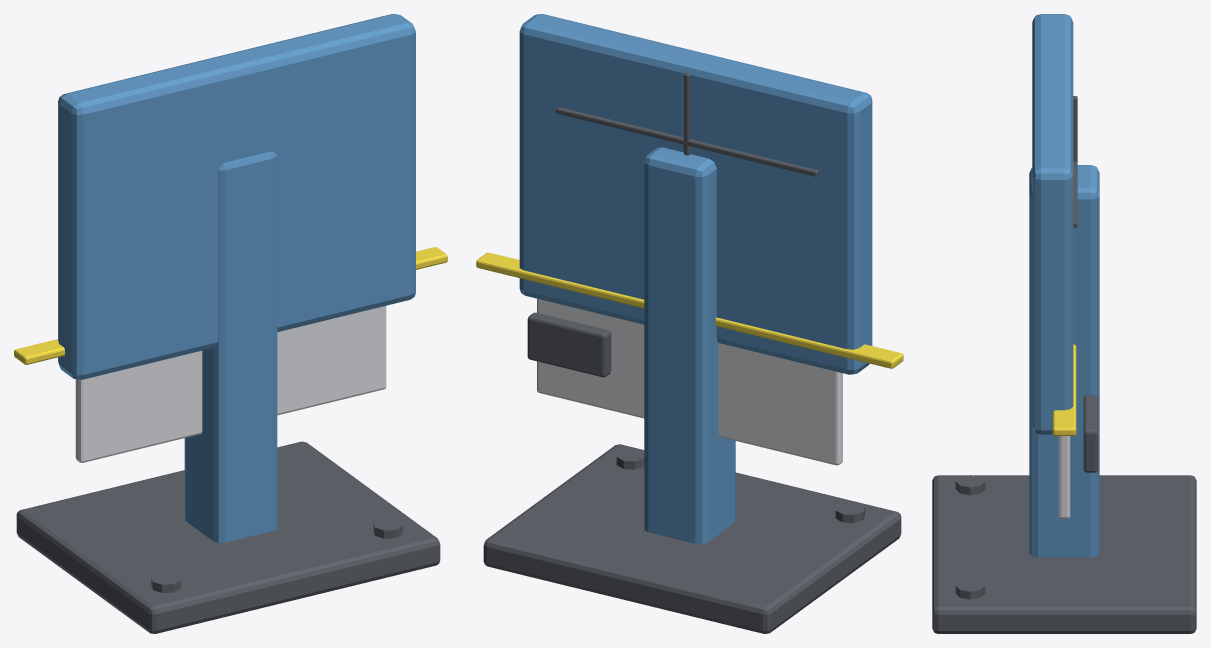
Rendered from btf-aim-board.glb.
3 renders of one model, left to right at view 1: azimuth 30°, elevation 25°; view 2: azimuth 150°, elevation 25°; view 3: azimuth 270°, elevation 25°, orthographic. The views are drawn at different scales.
Visible parts, largest first — view 1: 161-headlamp-aim-board/1, 161-headlamp-aim-board/0, 161-headlamp-aim-board/2, 161-headlamp-aim-board/4; view 2: 161-headlamp-aim-board/1, 161-headlamp-aim-board/0, 161-headlamp-aim-board/2, 161-headlamp-aim-board/4; view 3: 161-headlamp-aim-board/0, 161-headlamp-aim-board/1, 161-headlamp-aim-board/2, 161-headlamp-aim-board/4.
Boxes of the visible parts, left/top/right/bottom form: 161-headlamp-aim-board/1: left=58, top=14, right=415, bottom=542; 161-headlamp-aim-board/0: left=16, top=441, right=440, bottom=633; 161-headlamp-aim-board/2: left=75, top=306, right=386, bottom=462; 161-headlamp-aim-board/4: left=14, top=247, right=447, bottom=364; 161-headlamp-aim-board/1: left=519, top=14, right=872, bottom=544; 161-headlamp-aim-board/0: left=483, top=72, right=901, bottom=633; 161-headlamp-aim-board/2: left=537, top=298, right=842, bottom=465; 161-headlamp-aim-board/4: left=476, top=252, right=903, bottom=368; 161-headlamp-aim-board/0: left=932, top=96, right=1196, bottom=633; 161-headlamp-aim-board/1: left=1029, top=14, right=1099, bottom=557; 161-headlamp-aim-board/2: left=1058, top=436, right=1070, bottom=518; 161-headlamp-aim-board/4: left=1052, top=344, right=1076, bottom=435.
Size of the model in its own units: 52427 by 59636 by 29492.
